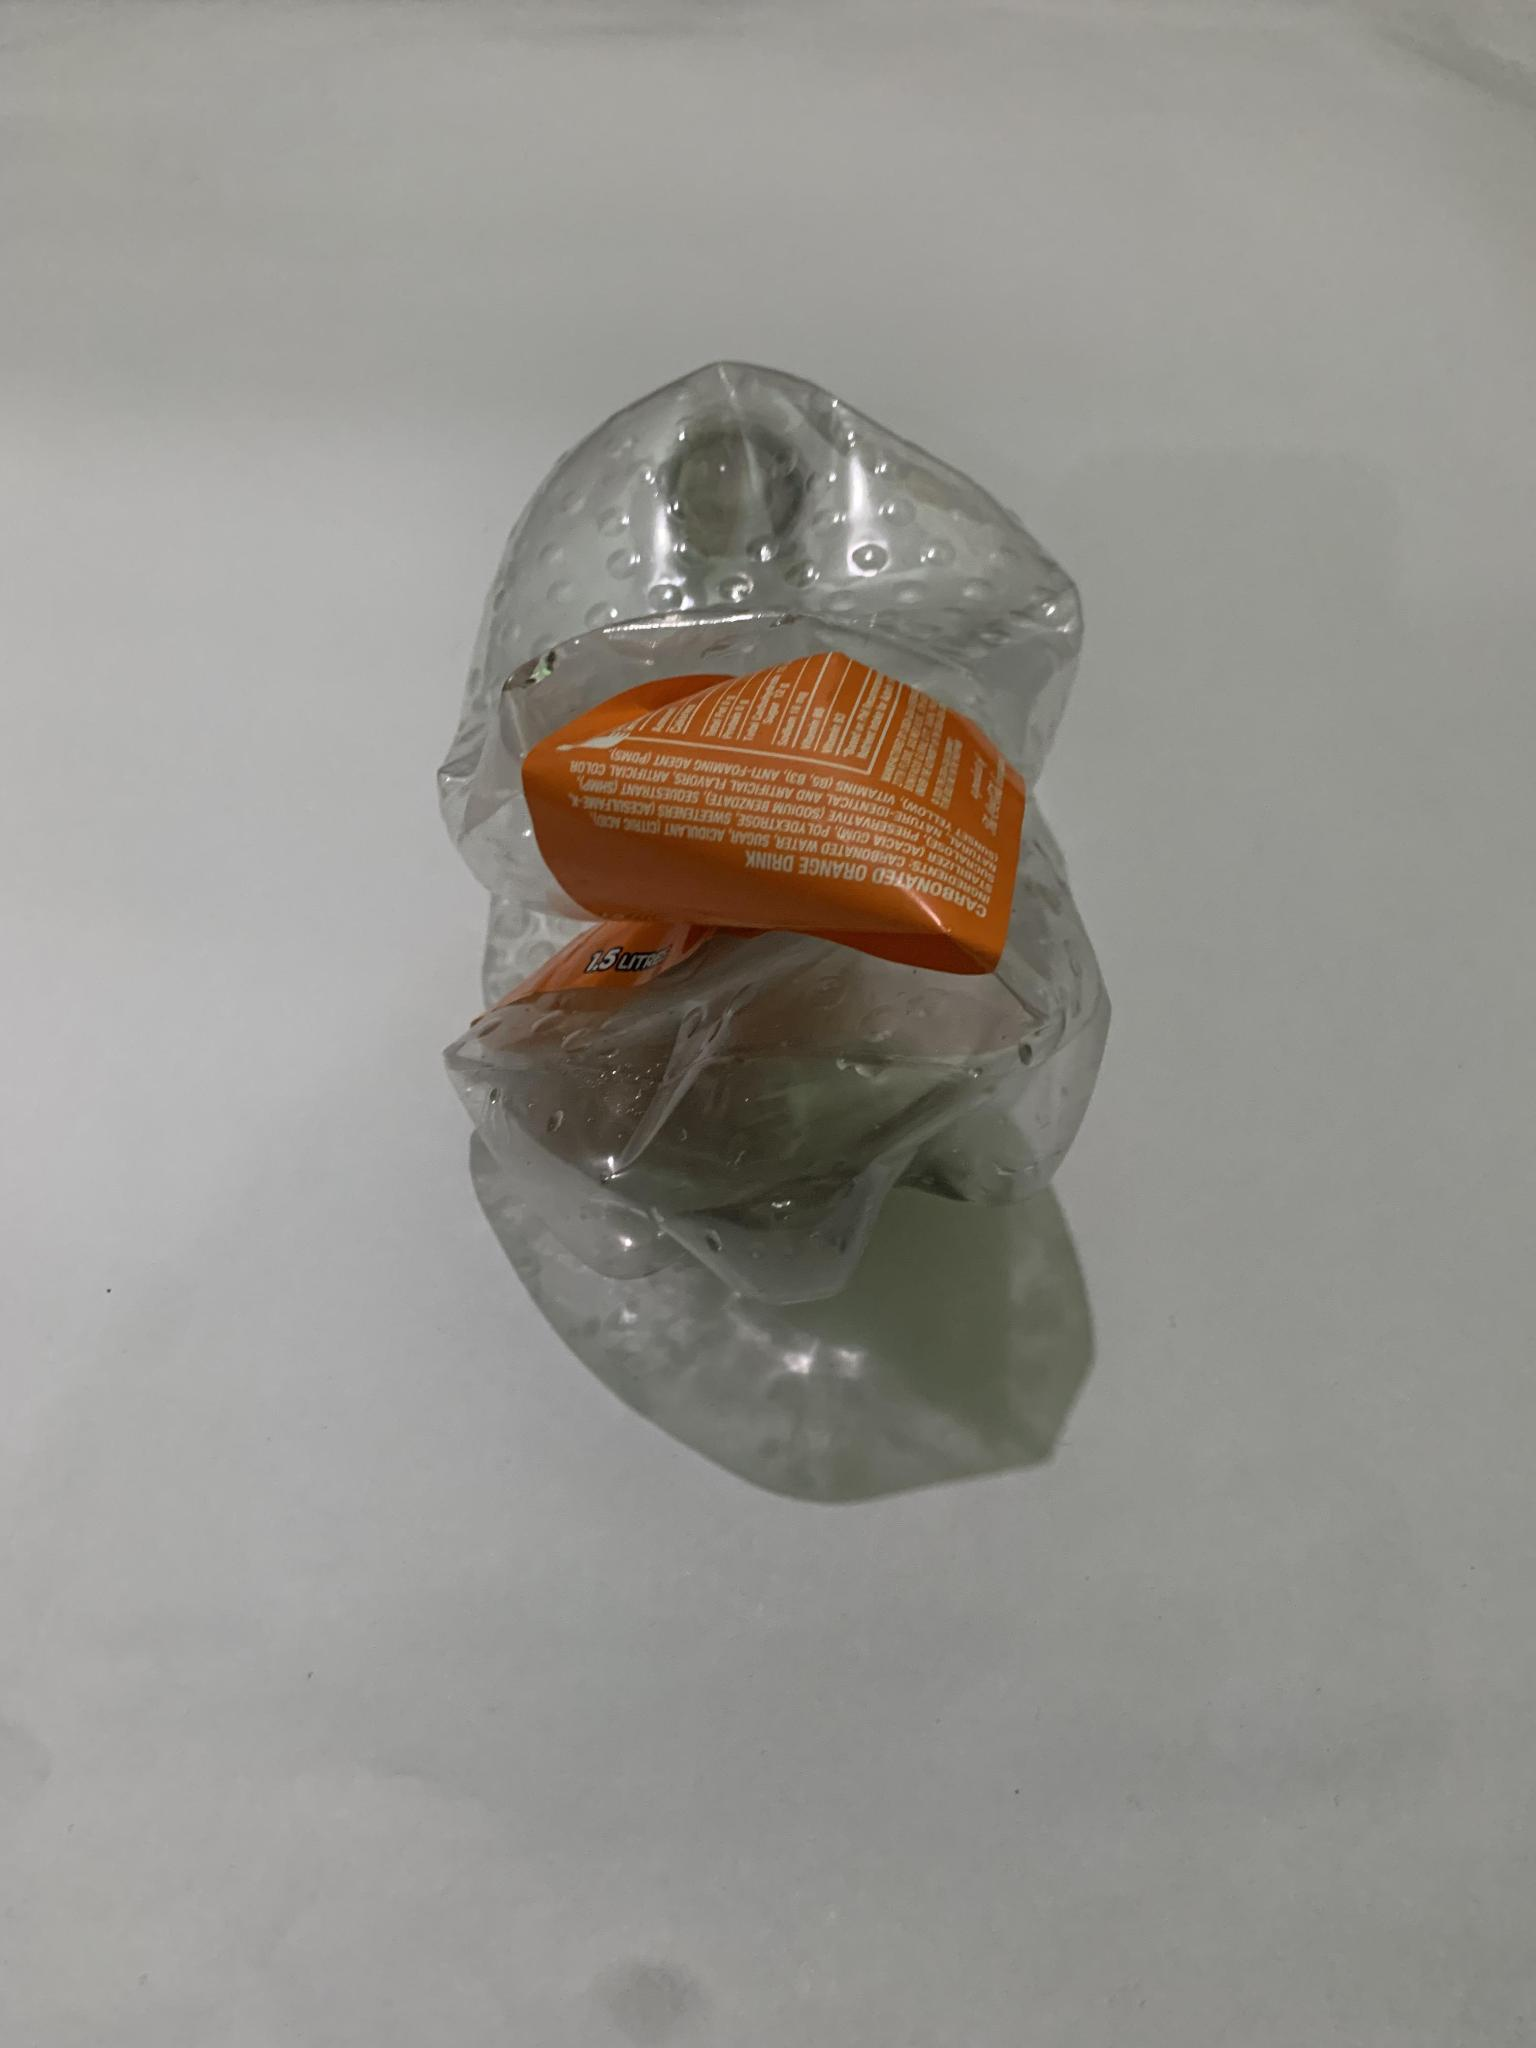bottle: (411, 358, 1226, 1314)
